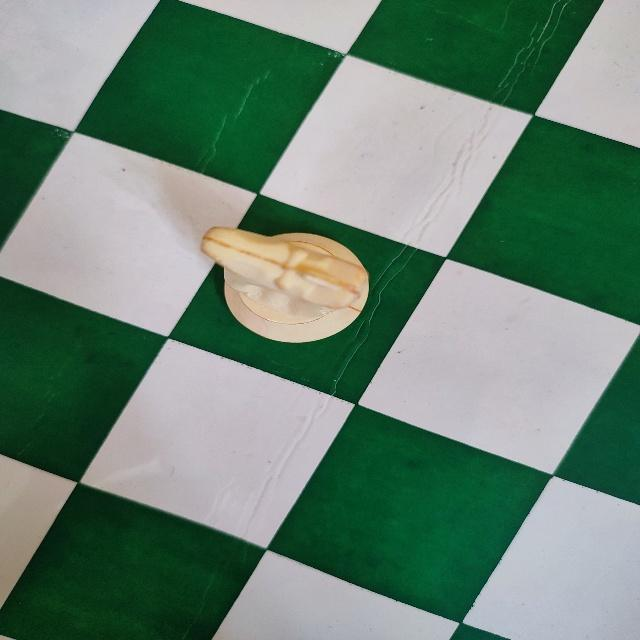Knight: (197, 219, 372, 349)
